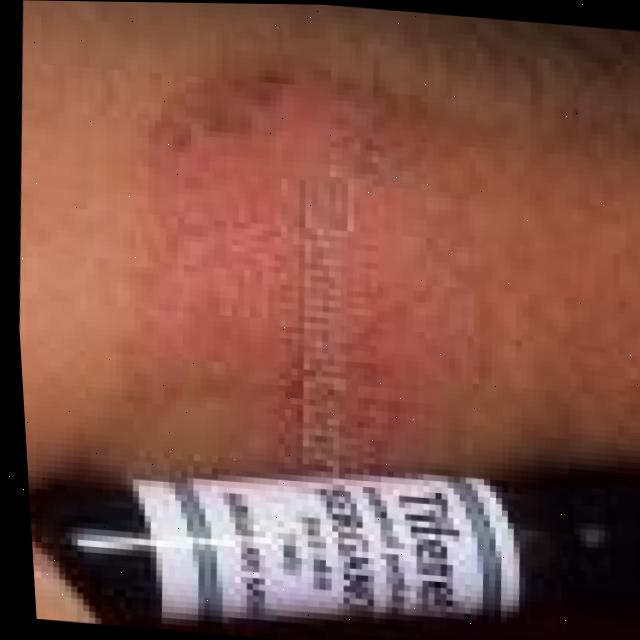Melasma: (158, 108, 461, 422)
